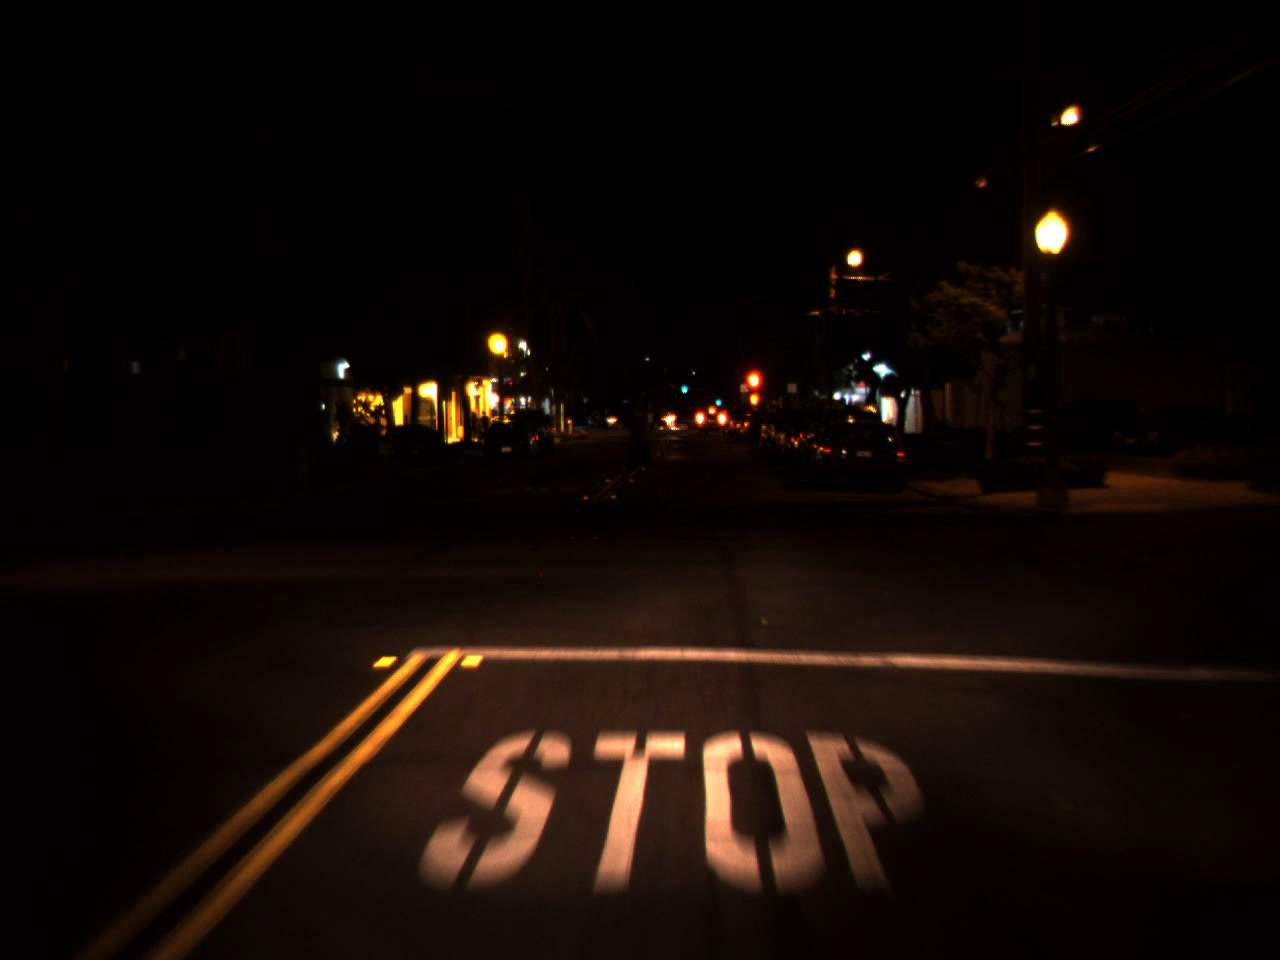go: (679, 378, 688, 393), (713, 392, 722, 407)
stop: (740, 366, 765, 417)
